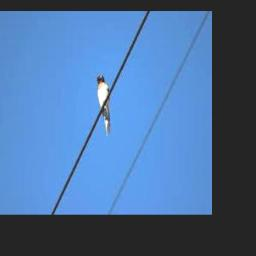Swallow: (97, 74, 112, 136)
